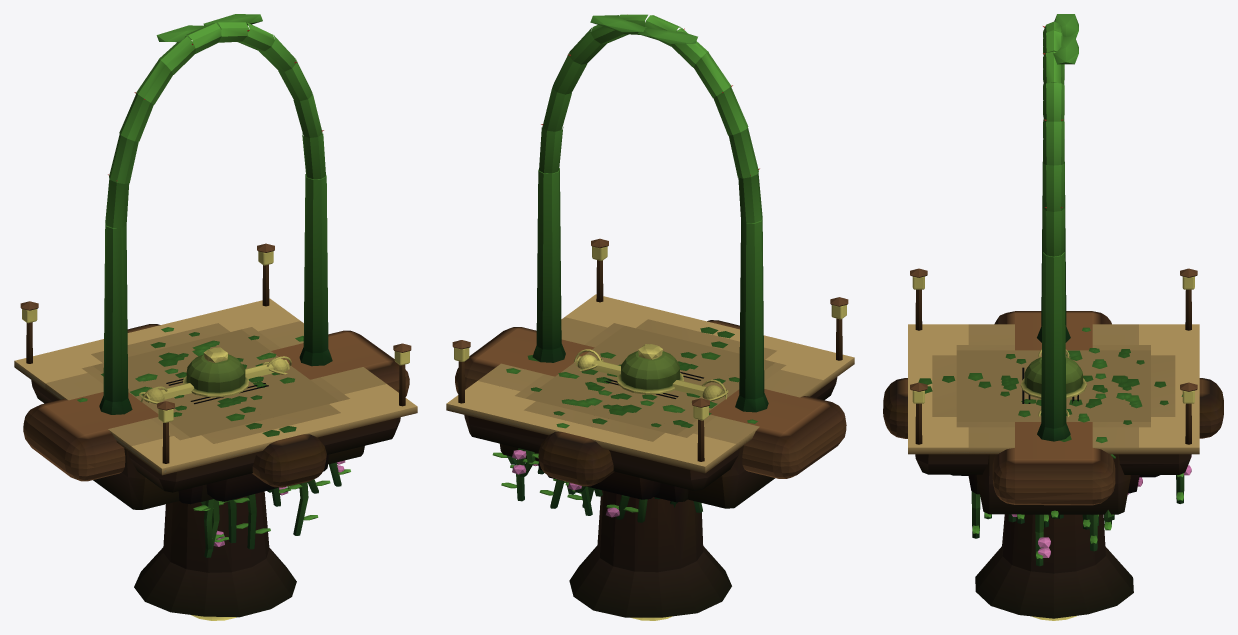
File: swamp-2-BX0C8tSi.glb
3 renders of one model, left to right at view 1: azimuth 30°, elevation 25°; view 2: azimuth 150°, elevation 25°; view 3: azimuth 270°, elevation 25°, orthographic. The views are drawn at different scales.
Parts seen in each view (by area): view 1: pad_12x2x12#0, pressFrame_7.5x6x2.5x7#0, beam_16x1.5x5_plank#0, block_12x2x7#0, block_7x2x8#0, block_5x2x7#0, block_6x2x10#0, beam_3x2x14#0, barHub_7.2x1.2#0, block_8x2x8#0, balls_7.2x1.4#0; view 2: pad_12x2x12#0, pressFrame_7.5x6x2.5x7#0, beam_16x1.5x5_plank#0, block_12x2x7#0, block_5x2x7#0, block_7x2x8#0, block_6x2x10#0, beam_3x2x14#0, barHub_7.2x1.2#0, block_8x2x8#0, block_8x2x7#0, balls_7.2x1.4#0; view 3: pad_12x2x12#0, pressFrame_7.5x6x2.5x7#0, beam_16x1.5x5_plank#0, block_12x2x7#0, block_5x2x7#0, block_7x2x8#0, block_6x2x10#0, beam_3x2x14#0, block_8x2x8#0, barHub_7.2x1.2#0, block_8x2x7#0.
Boxes of the visible parts, <box> form: pad_12x2x12#0: <box>14,243,417,617</box>; pressFrame_7.5x6x2.5x7#0: <box>99,14,332,414</box>; beam_16x1.5x5_plank#0: <box>23,330,409,481</box>; block_12x2x7#0: <box>45,321,386,543</box>; block_7x2x8#0: <box>92,329,339,549</box>; block_5x2x7#0: <box>128,339,311,427</box>; block_6x2x10#0: <box>91,323,340,505</box>; beam_3x2x14#0: <box>127,324,326,487</box>; barHub_7.2x1.2#0: <box>142,347,289,403</box>; block_8x2x8#0: <box>82,327,349,557</box>; balls_7.2x1.4#0: <box>139,356,291,404</box>; pad_12x2x12#0: <box>446,238,854,617</box>; pressFrame_7.5x6x2.5x7#0: <box>532,14,768,412</box>; beam_16x1.5x5_plank#0: <box>455,327,846,478</box>; block_12x2x7#0: <box>478,317,822,508</box>; block_5x2x7#0: <box>553,335,739,515</box>; block_7x2x8#0: <box>525,326,775,504</box>; block_6x2x10#0: <box>524,319,776,499</box>; beam_3x2x14#0: <box>538,320,739,486</box>; barHub_7.2x1.2#0: <box>575,344,724,400</box>; block_8x2x8#0: <box>515,323,786,502</box>; block_8x2x7#0: <box>539,372,717,522</box>; balls_7.2x1.4#0: <box>574,349,728,401</box>; pad_12x2x12#0: <box>908,268,1199,618</box>; pressFrame_7.5x6x2.5x7#0: <box>1037,14,1078,441</box>; beam_16x1.5x5_plank#0: <box>992,311,1115,505</box>; block_12x2x7#0: <box>968,324,1138,566</box>; block_5x2x7#0: <box>968,360,1138,520</box>; block_7x2x8#0: <box>956,350,1150,538</box>; block_6x2x10#0: <box>932,355,1175,477</box>; beam_3x2x14#0: <box>883,378,1223,438</box>; block_8x2x8#0: <box>956,345,1150,529</box>; barHub_7.2x1.2#0: <box>1020,357,1086,398</box>; block_8x2x7#0: <box>1066,348,1129,551</box>.
Bounding box in the file's own units: 16.06 × 26.49 × 14.02.
